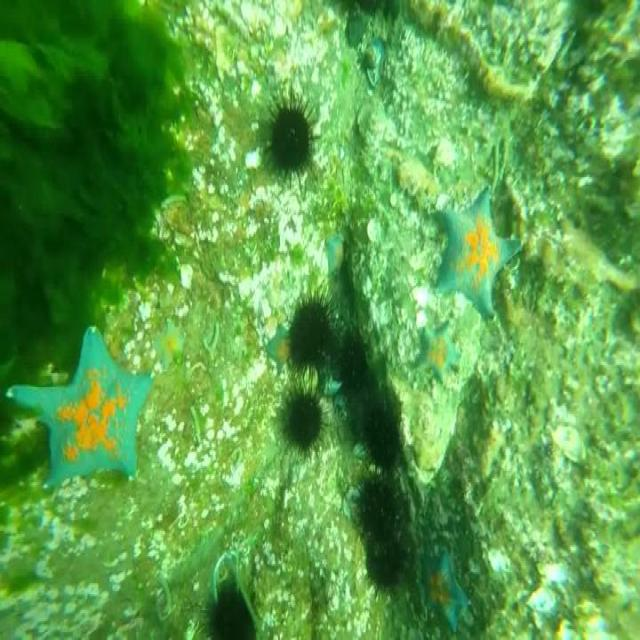echinus: (271, 376, 326, 458), (281, 297, 331, 386), (263, 102, 321, 178), (358, 471, 403, 539), (212, 575, 255, 640), (337, 318, 369, 402), (365, 406, 401, 471), (368, 539, 405, 594)
scallop: (552, 422, 587, 468), (530, 580, 556, 615), (414, 275, 436, 310), (367, 220, 381, 238)
starfish: (10, 325, 152, 479), (434, 185, 522, 318), (423, 542, 471, 634), (417, 322, 459, 382), (323, 236, 345, 274)
